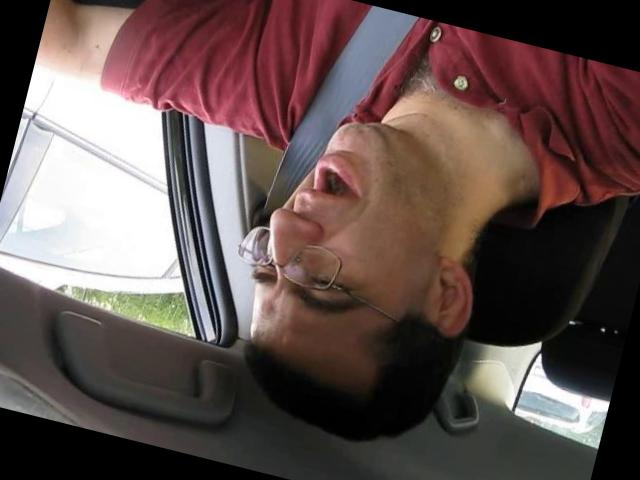eye_closed: (298, 266, 364, 306)
face: (245, 117, 438, 338)
mouth_open: (302, 153, 373, 214)
